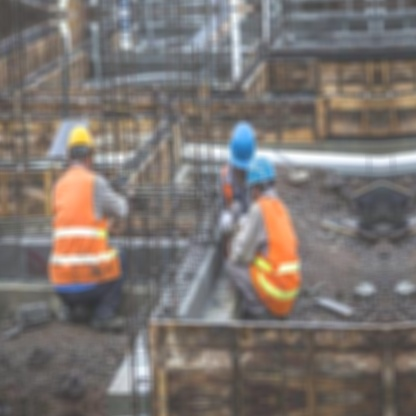blue: (226, 118, 262, 171), (240, 151, 281, 196)
vest: (36, 168, 124, 291), (246, 192, 304, 315)
yellow: (63, 120, 103, 161)
